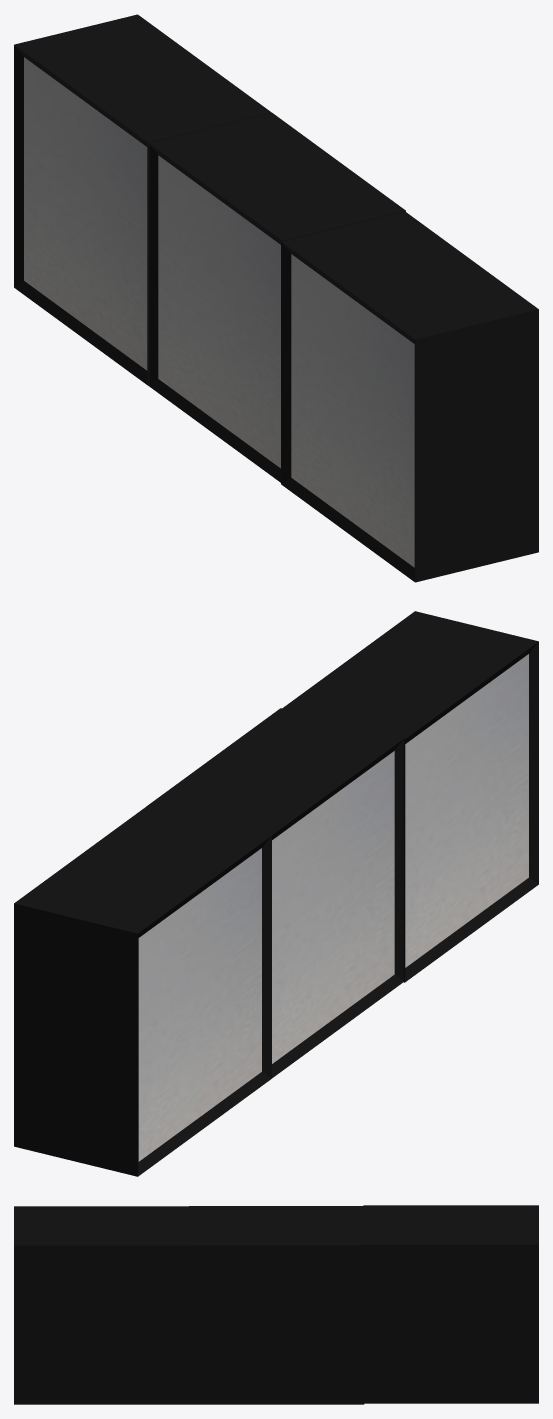
File: sidechair.glb
The picture shows the model from 3 angles, top to bottom: view 1: azimuth 30°, elevation 25°; view 2: azimuth 150°, elevation 25°; view 3: azimuth 270°, elevation 25°; orthographic projection. The views are drawn at different scales.
Visible parts, largest first — view 1: Cube, Cube.004, Cube.002; view 2: Cube.004, Cube, Cube.002; view 3: Cube.002, Cube.004, Cube.
Part boxes in pixels (x1,y1,x2,y2): Cube: [281, 211, 538, 582]; Cube.004: [14, 14, 271, 385]; Cube.002: [148, 113, 405, 482]; Cube.004: [14, 805, 271, 1176]; Cube: [282, 611, 538, 982]; Cube.002: [148, 708, 404, 1078]; Cube.002: [189, 1206, 364, 1404]; Cube.004: [363, 1205, 538, 1403]; Cube: [14, 1206, 188, 1404].
Size of the model in its own units: 0.8402 by 1.57 by 4.68.
2 materials, 1 textured.
